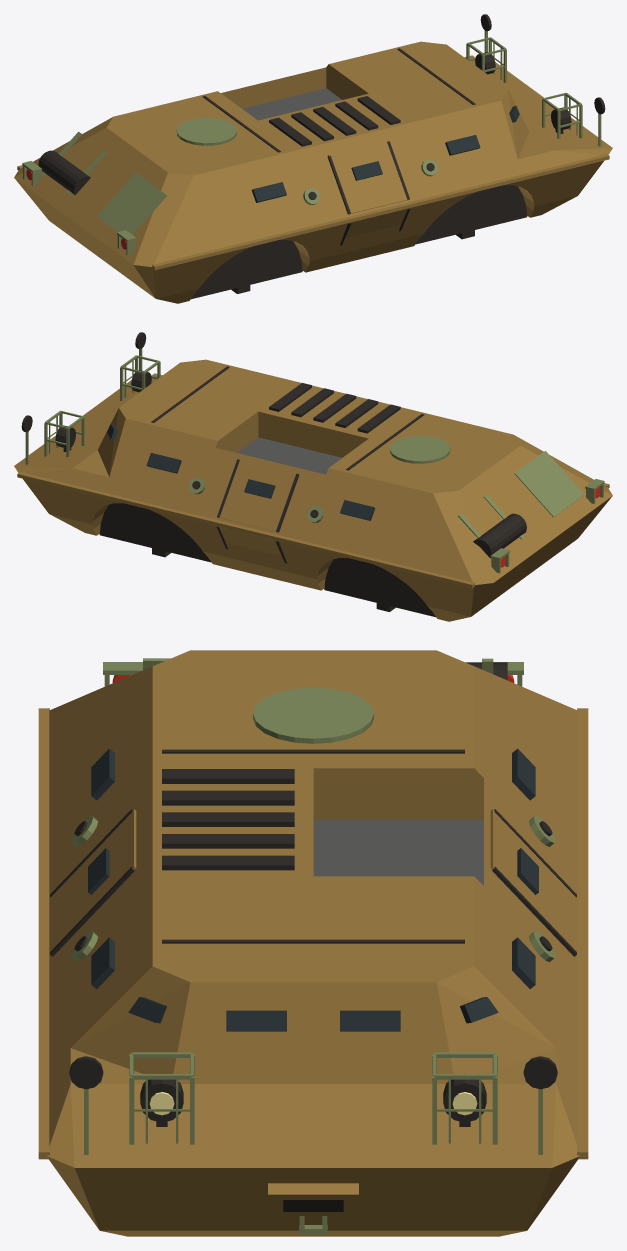
Rendered from base_carrier.glb.
The picture shows the model from 3 angles, top to bottom: view 1: azimuth 30°, elevation 25°; view 2: azimuth 150°, elevation 25°; view 3: azimuth 270°, elevation 25°; orthographic projection. The views are drawn at different scales.
Parts seen in each view (by area): view 1: base_carrier; view 2: base_carrier; view 3: base_carrier.
Part boxes in pixels (x1,y1,x2,y2): base_carrier: (14, 14, 612, 303); base_carrier: (14, 332, 612, 621); base_carrier: (38, 650, 588, 1236).
Size of the model in its own units: 5.85 by 1.62 by 2.9.
